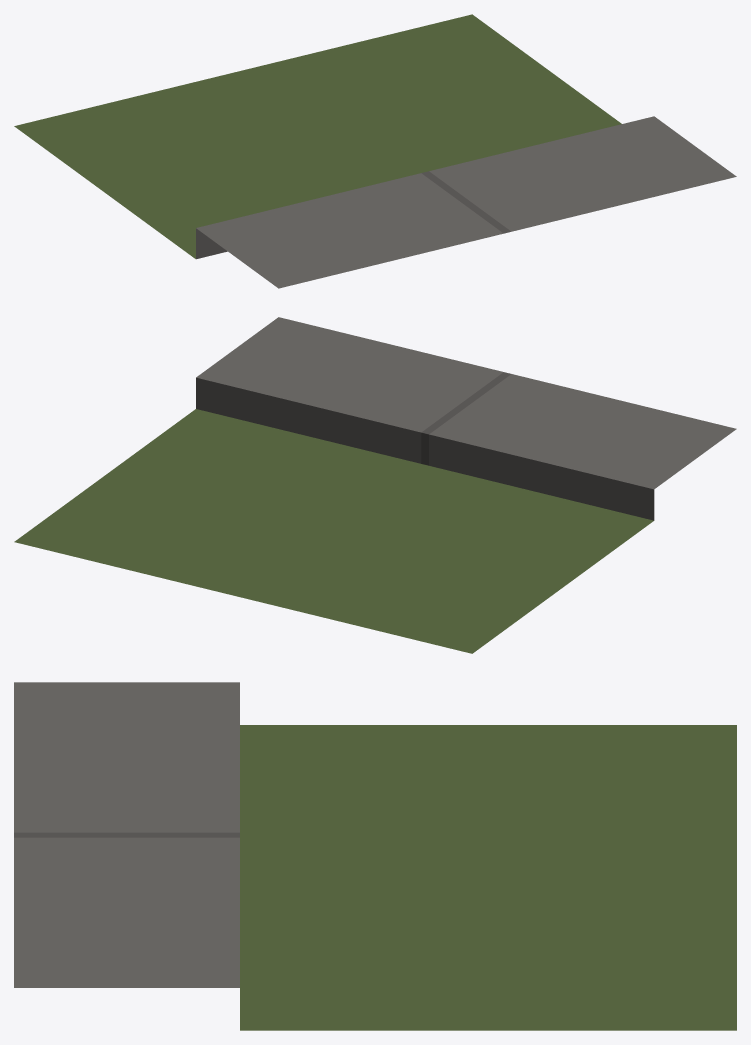
Rendered from AI_Env_Sewer_Floor_Edge.fbx.
The picture shows the model from 3 angles, top to bottom: view 1: azimuth 30°, elevation 25°; view 2: azimuth 150°, elevation 25°; view 3: azimuth 270°, elevation 25°; orthographic projection. The views are drawn at different scales.
Visible parts, largest first — view 1: AI_Env_Sewer_Floor_Edge; view 2: AI_Env_Sewer_Floor_Edge; view 3: AI_Env_Sewer_Floor_Edge.
Boxes of the visible parts, bbox=[...] form: AI_Env_Sewer_Floor_Edge: bbox=[14, 14, 736, 288]; AI_Env_Sewer_Floor_Edge: bbox=[14, 317, 736, 653]; AI_Env_Sewer_Floor_Edge: bbox=[14, 682, 736, 1030].
Bounding box in the file's own units: 5 × 0.3261 × 5.
